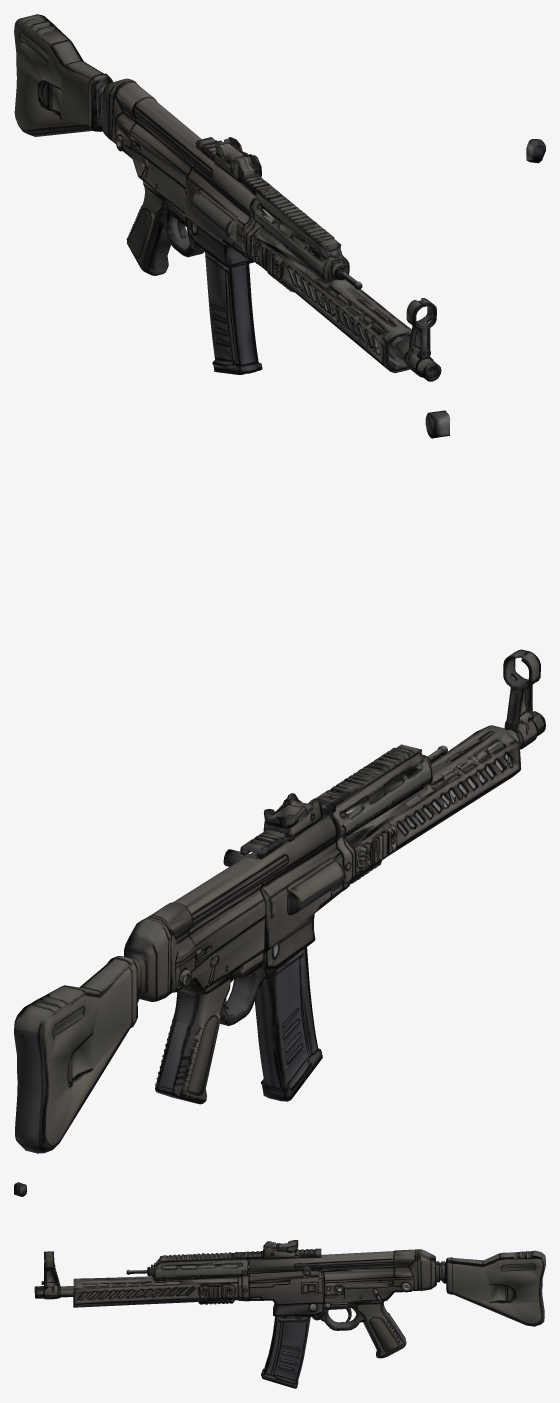
3 views of the same model, one above another, from view 1: azimuth 30°, elevation 25°; view 2: azimuth 150°, elevation 25°; view 3: azimuth 270°, elevation 25° (orthographic). The views are drawn at different scales.
Parts seen in each view (by area): view 1: tripo_node_3d5e994a-cc3d-4a5c-99f0-1c4367eb22fb; view 2: tripo_node_3d5e994a-cc3d-4a5c-99f0-1c4367eb22fb; view 3: tripo_node_3d5e994a-cc3d-4a5c-99f0-1c4367eb22fb.
Part boxes in pixels (x1,y1,x2,y2): tripo_node_3d5e994a-cc3d-4a5c-99f0-1c4367eb22fb: (14,14,545,381); tripo_node_3d5e994a-cc3d-4a5c-99f0-1c4367eb22fb: (14,410,545,1153); tripo_node_3d5e994a-cc3d-4a5c-99f0-1c4367eb22fb: (14,1182,545,1388).
Size of the model in its own units: 0.3077 by 0.85 by 1.78.
1 material, 1 textured.
